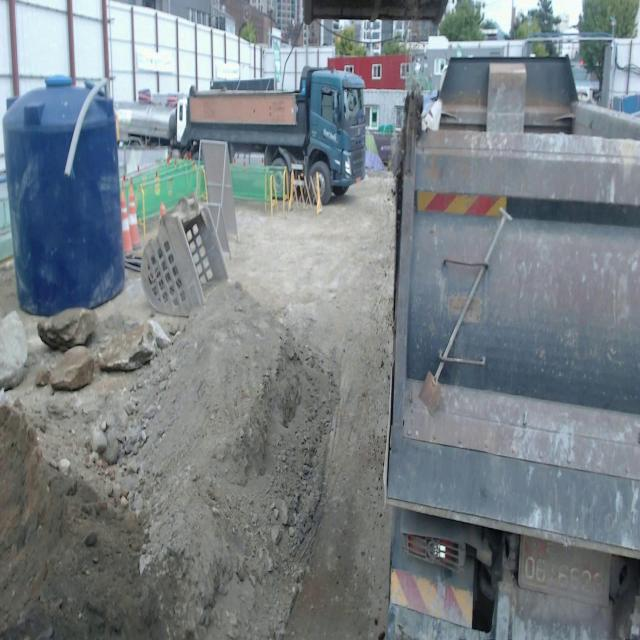stone: (98, 323, 156, 371), (38, 308, 98, 351), (0, 311, 28, 389), (48, 346, 96, 389)
white-sand: (0, 175, 395, 639)
